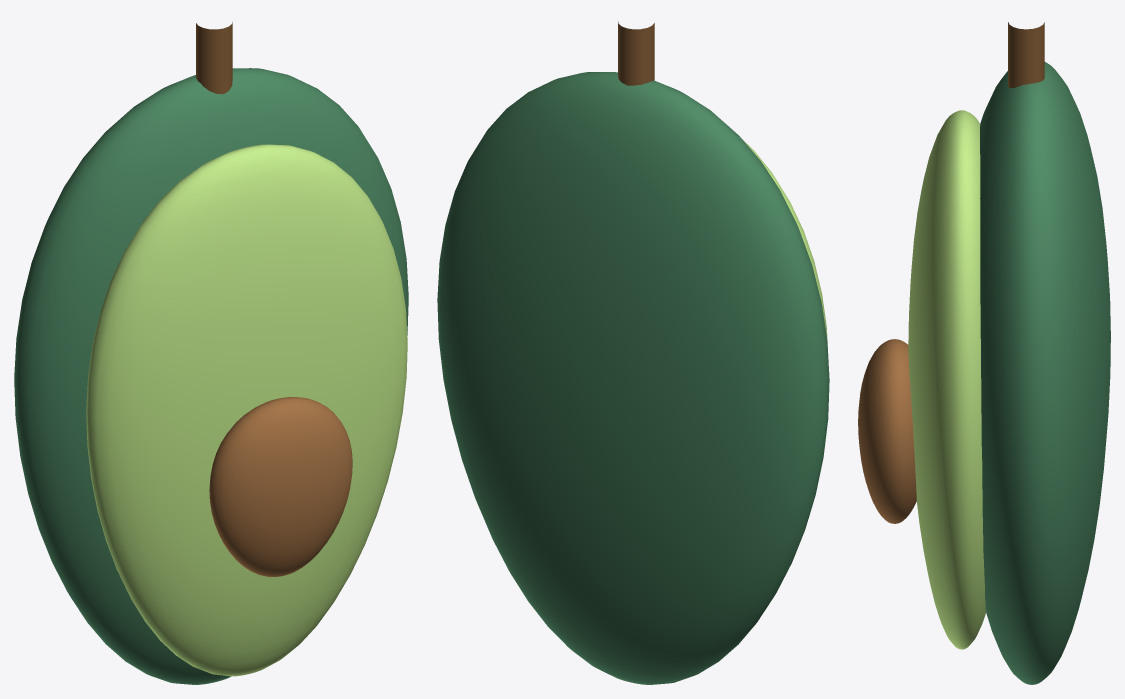
Rendered from Avocado-3D.glb.
The picture shows the model from 3 angles, left to right: view 1: azimuth 30°, elevation 25°; view 2: azimuth 150°, elevation 25°; view 3: azimuth 270°, elevation 25°; orthographic projection.
Visible parts, largest first — view 1: Friendly cut avocado; view 2: Friendly cut avocado; view 3: Friendly cut avocado.
Part boxes in pixels (left/top/right/bottom): Friendly cut avocado: left=14, top=22, right=408, bottom=684; Friendly cut avocado: left=437, top=21, right=829, bottom=684; Friendly cut avocado: left=858, top=22, right=1110, bottom=684.
Bounding box in the file's own units: 1.57 × 2.57 × 0.9029.
